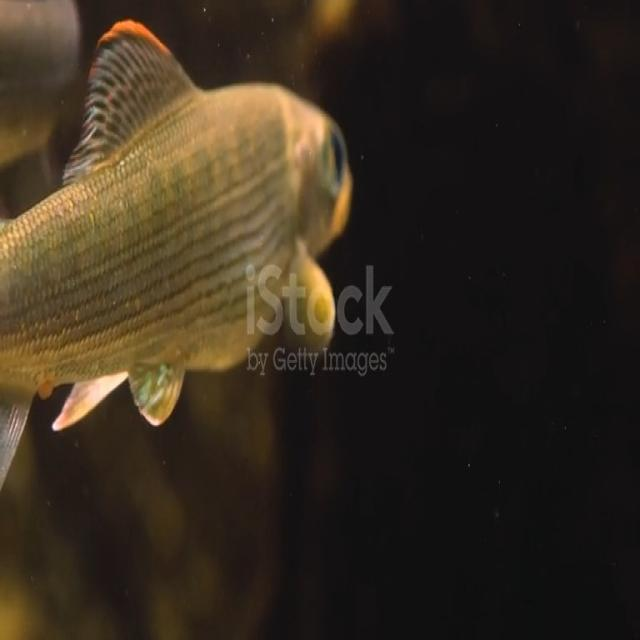fish: (4, 15, 358, 447)
